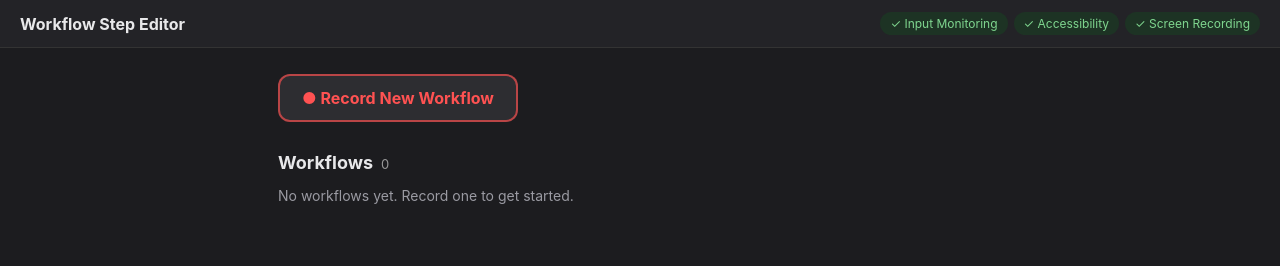
Scenario: record flow › surfaces a failed recording whose workflow no longer loads on the landing page
Click the button "● Record New Workflow".
click(398, 98)  # box [278,74,518,122]
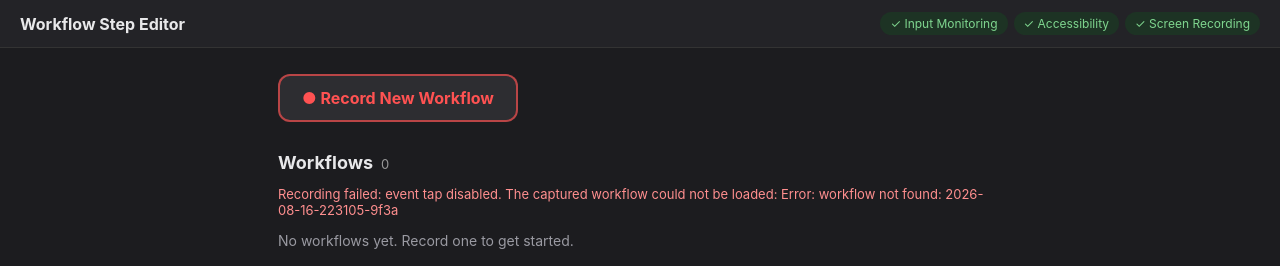
Result: the message shows "Recording failed: event tap disabled" at [278,186,983,218]
Result: the message shows "could not be loaded" at [278,186,983,218]
Result: the message shows "workflow not found" at [278,186,983,218]
